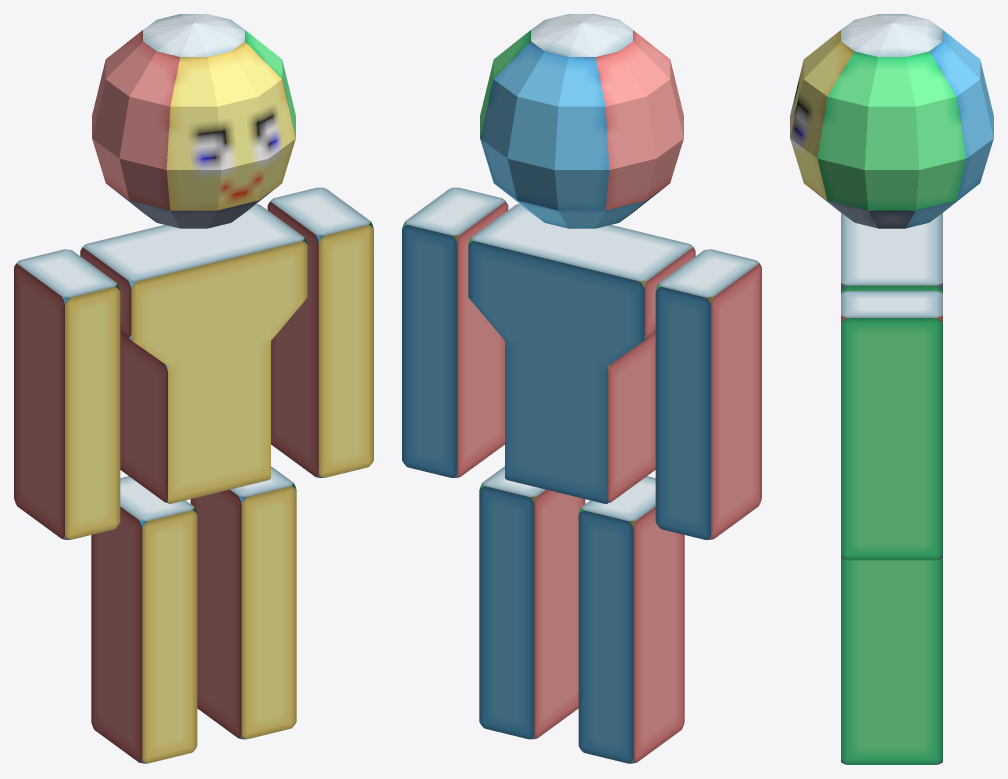
File: FirstModel.fbx
3 views of the same model, side by side, from view 1: azimuth 30°, elevation 25°; view 2: azimuth 150°, elevation 25°; view 3: azimuth 270°, elevation 25° (orthographic).
Visible parts, largest first — view 1: body, head, arm_right, leg_right, leg_left, arm_left; view 2: body, head, arm_right, leg_right, leg_left, arm_left; view 3: head, arm_left, leg_left, body.
Boxes of the visible parts, x1,y1,x2,y2 form: body: (80,204,307,503); head: (92,14,295,228); arm_right: (14,249,120,539); leg_right: (91,476,197,763); leg_left: (190,466,296,739); arm_left: (267,187,373,477); body: (468,204,695,503); head: (480,14,683,228); arm_right: (655,249,761,539); leg_right: (578,476,684,763); leg_left: (479,466,585,739); arm_left: (402,187,508,477); head: (790,14,993,228); arm_left: (841,291,942,560); leg_left: (841,558,942,764); body: (841,213,942,293).
Bounding box in the file's own units: 175 × 381 × 100.
Materials: 1 (1 with a texture image).
